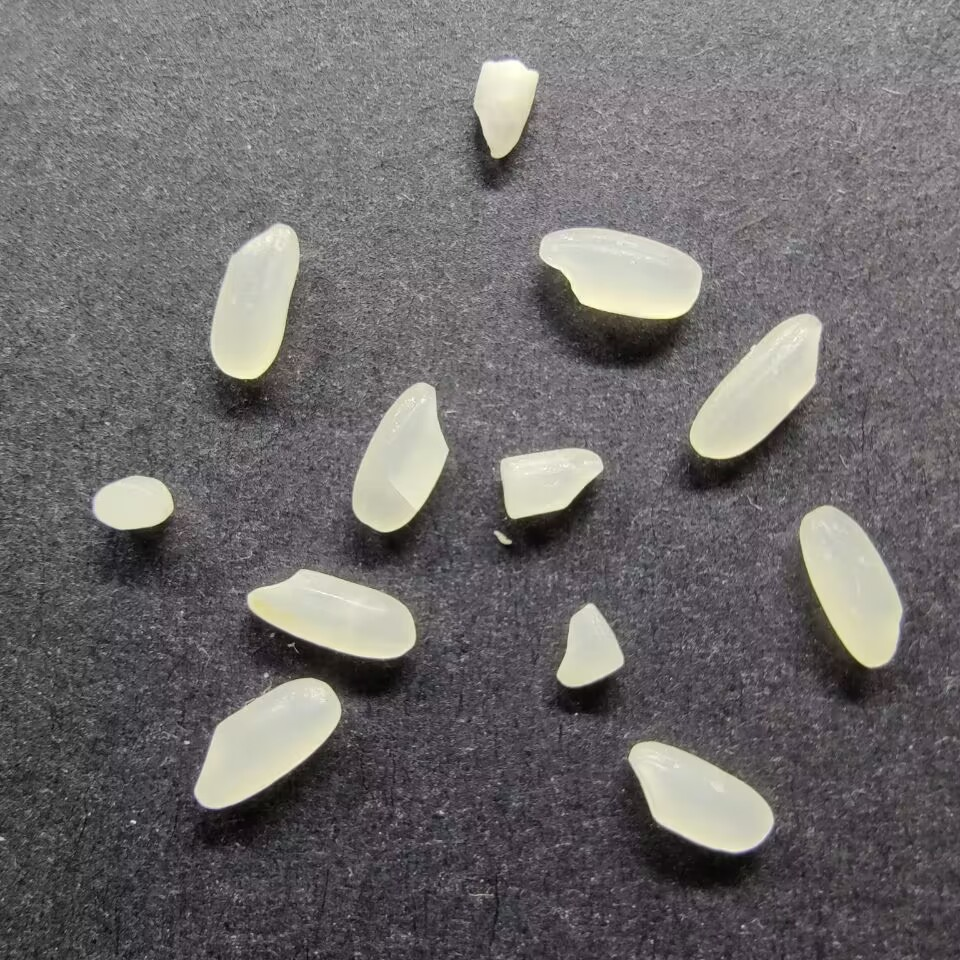broken: (497, 448, 605, 520), (471, 56, 539, 163), (552, 601, 627, 689), (90, 473, 175, 533)
rice: (191, 675, 344, 811), (687, 312, 823, 460), (795, 502, 903, 671), (626, 741, 774, 854), (243, 566, 418, 660), (350, 380, 450, 535), (536, 226, 702, 319), (207, 220, 300, 380)
